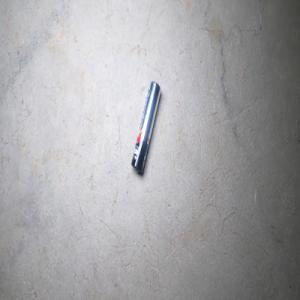Battery: (130, 80, 161, 174)
